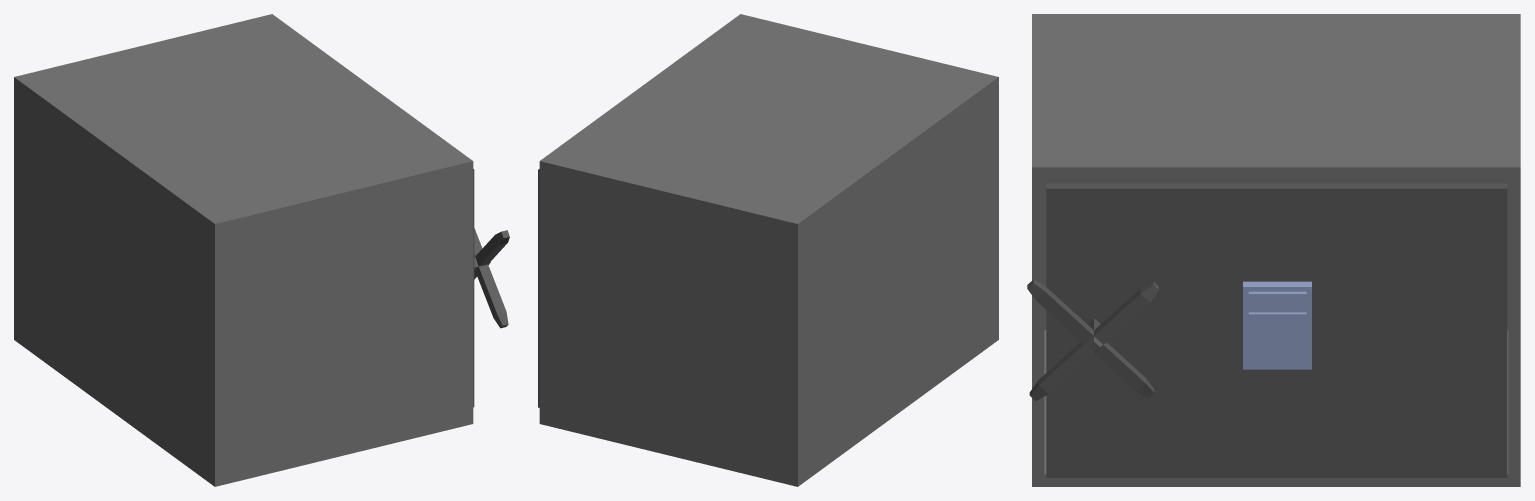
The model's file is Safe.fbx.
3 renders of one model, left to right at view 1: azimuth 30°, elevation 25°; view 2: azimuth 150°, elevation 25°; view 3: azimuth 270°, elevation 25°, orthographic. The views are drawn at different scales.
Visible parts, largest first — view 1: Cube, Cube.001; view 2: Cube; view 3: Cube.001, Cube.
Boxes of the visible parts, x1=… form: Cube: x1=14, y1=14, x2=473, y2=486; Cube.001: x1=473, y1=169, x2=509, y2=407; Cube: x1=539, y1=14, x2=998, y2=486; Cube.001: x1=1027, y1=183, x2=1507, y2=477; Cube: x1=1032, y1=14, x2=1520, y2=486.
Bounding box in the file's own units: 41.02 × 34.41 × 48.15.
